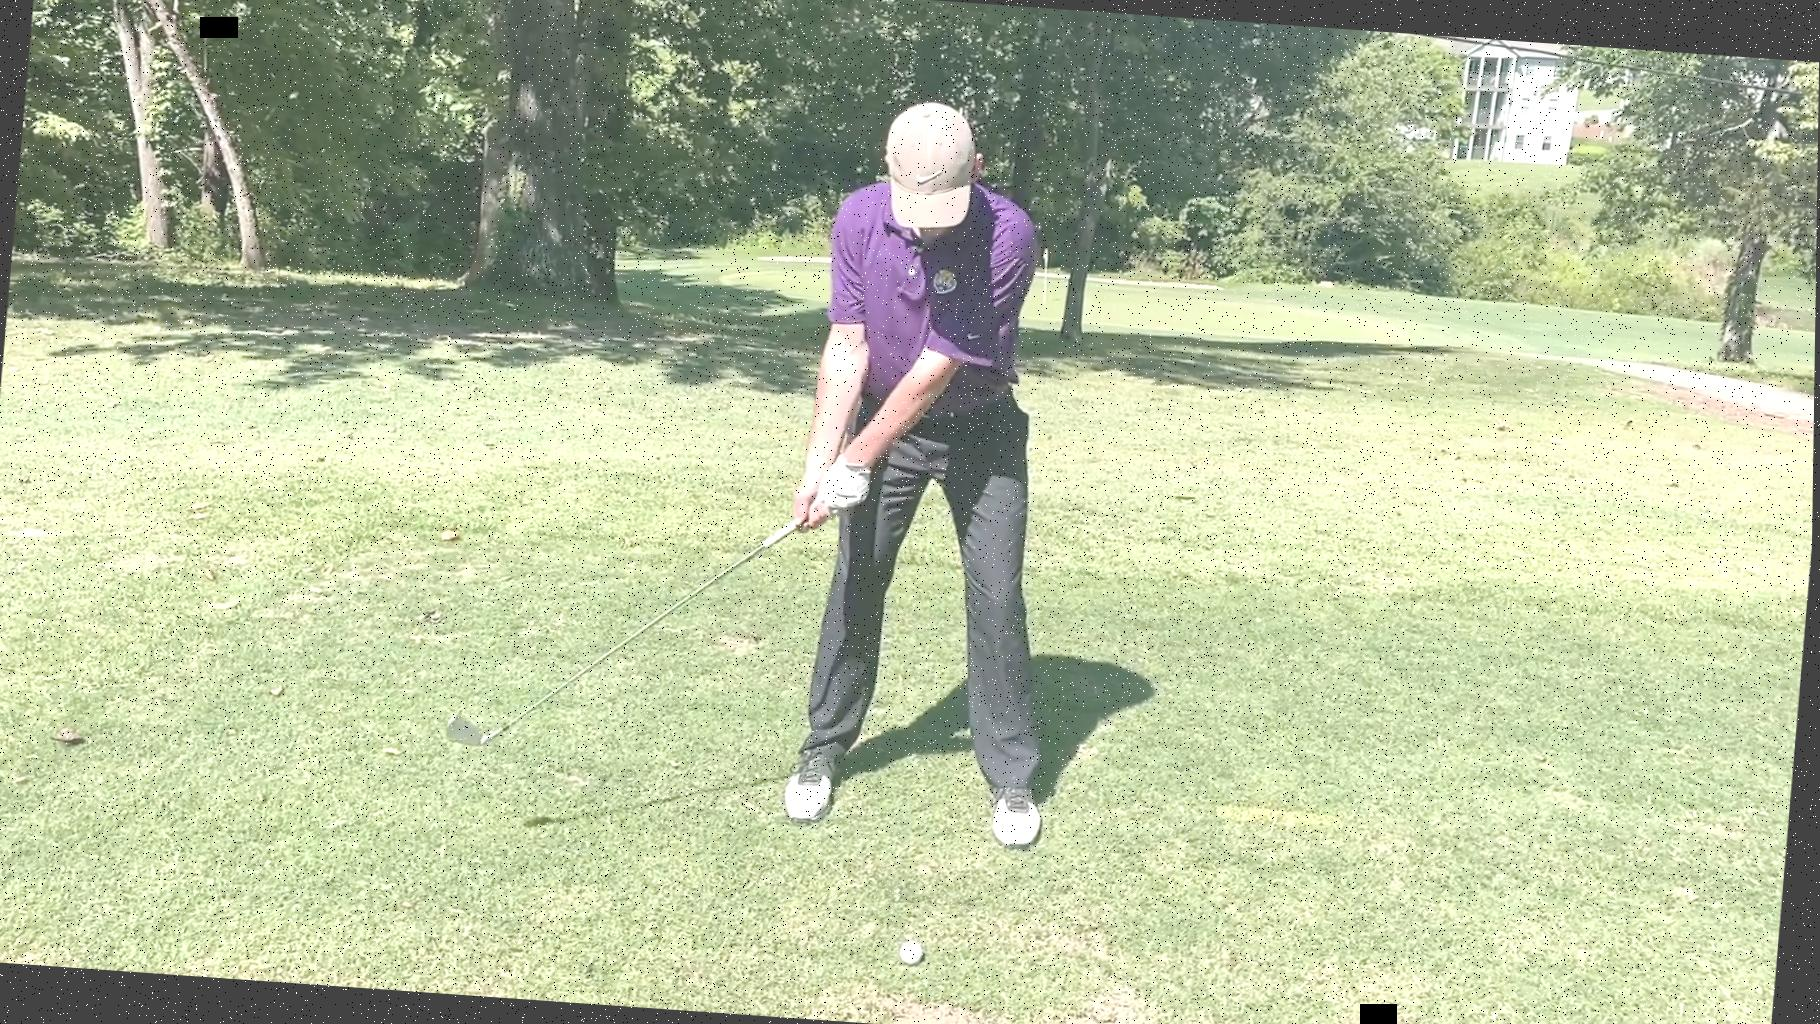ClubHead: (440, 708, 514, 753)
GolfBall: (901, 939, 927, 968)
